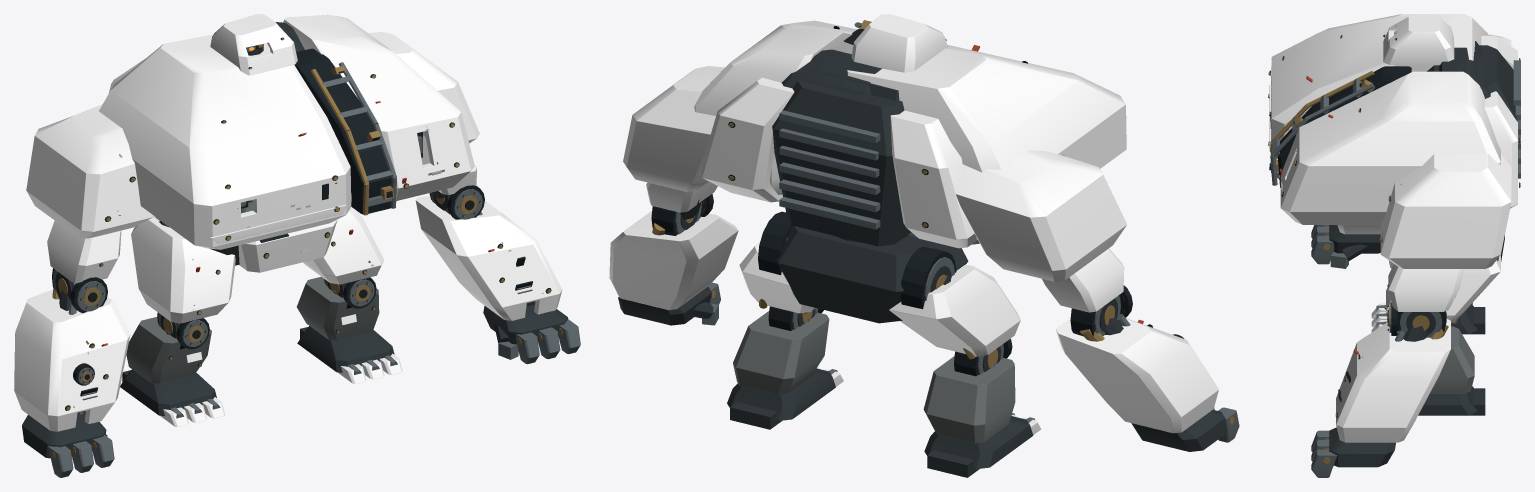
The model's file is mechanical-citizens-low-slung-bruiser-v1.glb.
3 views of the same model, side by side, from view 1: azimuth 30°, elevation 25°; view 2: azimuth 150°, elevation 25°; view 3: azimuth 270°, elevation 25° (orthographic). The views are drawn at different scales.
Parts seen in each view (by area): view 1: PLATE_chest_broad_wedge, PLATE_chest_return_cowl, PLATE_forearm_impact_shell.R, PLATE_shoulder_overhang.R, PLATE_forearm_impact_shell.L, PLATE_thigh_canted_shell.R, CORE_chest, CORE_hand.L, CORE_hand.R, CORE_foot.R, CORE_foot.L, PLATE_sensor_brow (+10 smaller); view 2: PLATE_chest_broad_wedge, CORE_chest, PLATE_shoulder_overhang.R, PLATE_forearm_impact_shell.R, CORE_pelvis, PLATE_forearm_impact_shell.L, PLATE_rear_cassette.R, PLATE_shoulder_overhang.L, PLATE_rear_cassette.L, PLATE_thigh_canted_shell.R, PLATE_chest_return_cowl, PLATE_shin_low_guard.R (+16 smaller); view 3: PLATE_chest_return_cowl, PLATE_shoulder_overhang.L, PLATE_forearm_impact_shell.L, PLATE_chest_broad_wedge, CORE_chest, PLATE_sensor_brow, PLATE_upper_arm_cuff.L, CORE_hand.L, CORE_hand.R, PLATE_rear_cassette.L, PLATE_shin_low_guard.L, CORE_forearm.L (+6 smaller).
Boxes of the visible parts, x1,y1,x2,y2 form: PLATE_chest_broad_wedge: [99, 34, 351, 249]; PLATE_chest_return_cowl: [283, 14, 474, 200]; PLATE_forearm_impact_shell.R: [14, 289, 130, 431]; PLATE_shoulder_overhang.R: [26, 104, 153, 238]; PLATE_forearm_impact_shell.L: [415, 196, 562, 320]; PLATE_thigh_canted_shell.R: [131, 216, 235, 323]; CORE_chest: [241, 36, 396, 215]; CORE_hand.L: [483, 301, 580, 364]; CORE_hand.R: [22, 410, 114, 477]; CORE_foot.R: [120, 369, 224, 426]; CORE_foot.L: [297, 326, 402, 383]; PLATE_sensor_brow: [210, 14, 297, 75]; PLATE_chest_broad_wedge: [847, 45, 1126, 239]; CORE_chest: [772, 20, 910, 246]; PLATE_shoulder_overhang.R: [956, 150, 1126, 281]; PLATE_forearm_impact_shell.R: [1056, 318, 1218, 433]; CORE_pelvis: [776, 225, 968, 323]; PLATE_forearm_impact_shell.L: [609, 211, 738, 309]; PLATE_rear_cassette.R: [890, 110, 977, 248]; PLATE_shoulder_overhang.L: [623, 66, 724, 191]; PLATE_rear_cassette.L: [699, 77, 794, 202]; PLATE_thigh_canted_shell.R: [889, 264, 1020, 356]; PLATE_chest_return_cowl: [694, 20, 856, 194]; PLATE_shin_low_guard.R: [923, 356, 1015, 443]; PLATE_chest_return_cowl: [1278, 71, 1500, 224]; PLATE_shoulder_overhang.L: [1380, 153, 1511, 268]; PLATE_forearm_impact_shell.L: [1335, 319, 1450, 442]; PLATE_chest_broad_wedge: [1268, 14, 1487, 159]; CORE_chest: [1269, 41, 1520, 187]; PLATE_sensor_brow: [1383, 15, 1454, 64]; PLATE_upper_arm_cuff.L: [1387, 264, 1463, 311]; CORE_hand.L: [1311, 427, 1395, 477]; CORE_hand.R: [1311, 225, 1380, 268]; PLATE_rear_cassette.L: [1484, 91, 1520, 208]; PLATE_shin_low_guard.L: [1430, 326, 1474, 393]; CORE_forearm.L: [1387, 302, 1448, 341].
Size of the model in its own units: 4.34 by 2.85 by 1.93.
